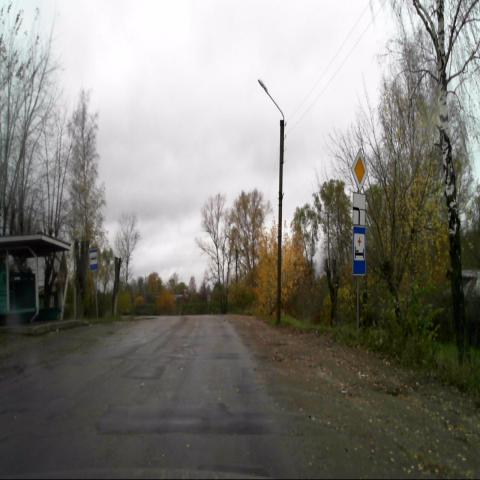7_2: (352, 227, 366, 275)
8_13: (352, 192, 366, 226)
